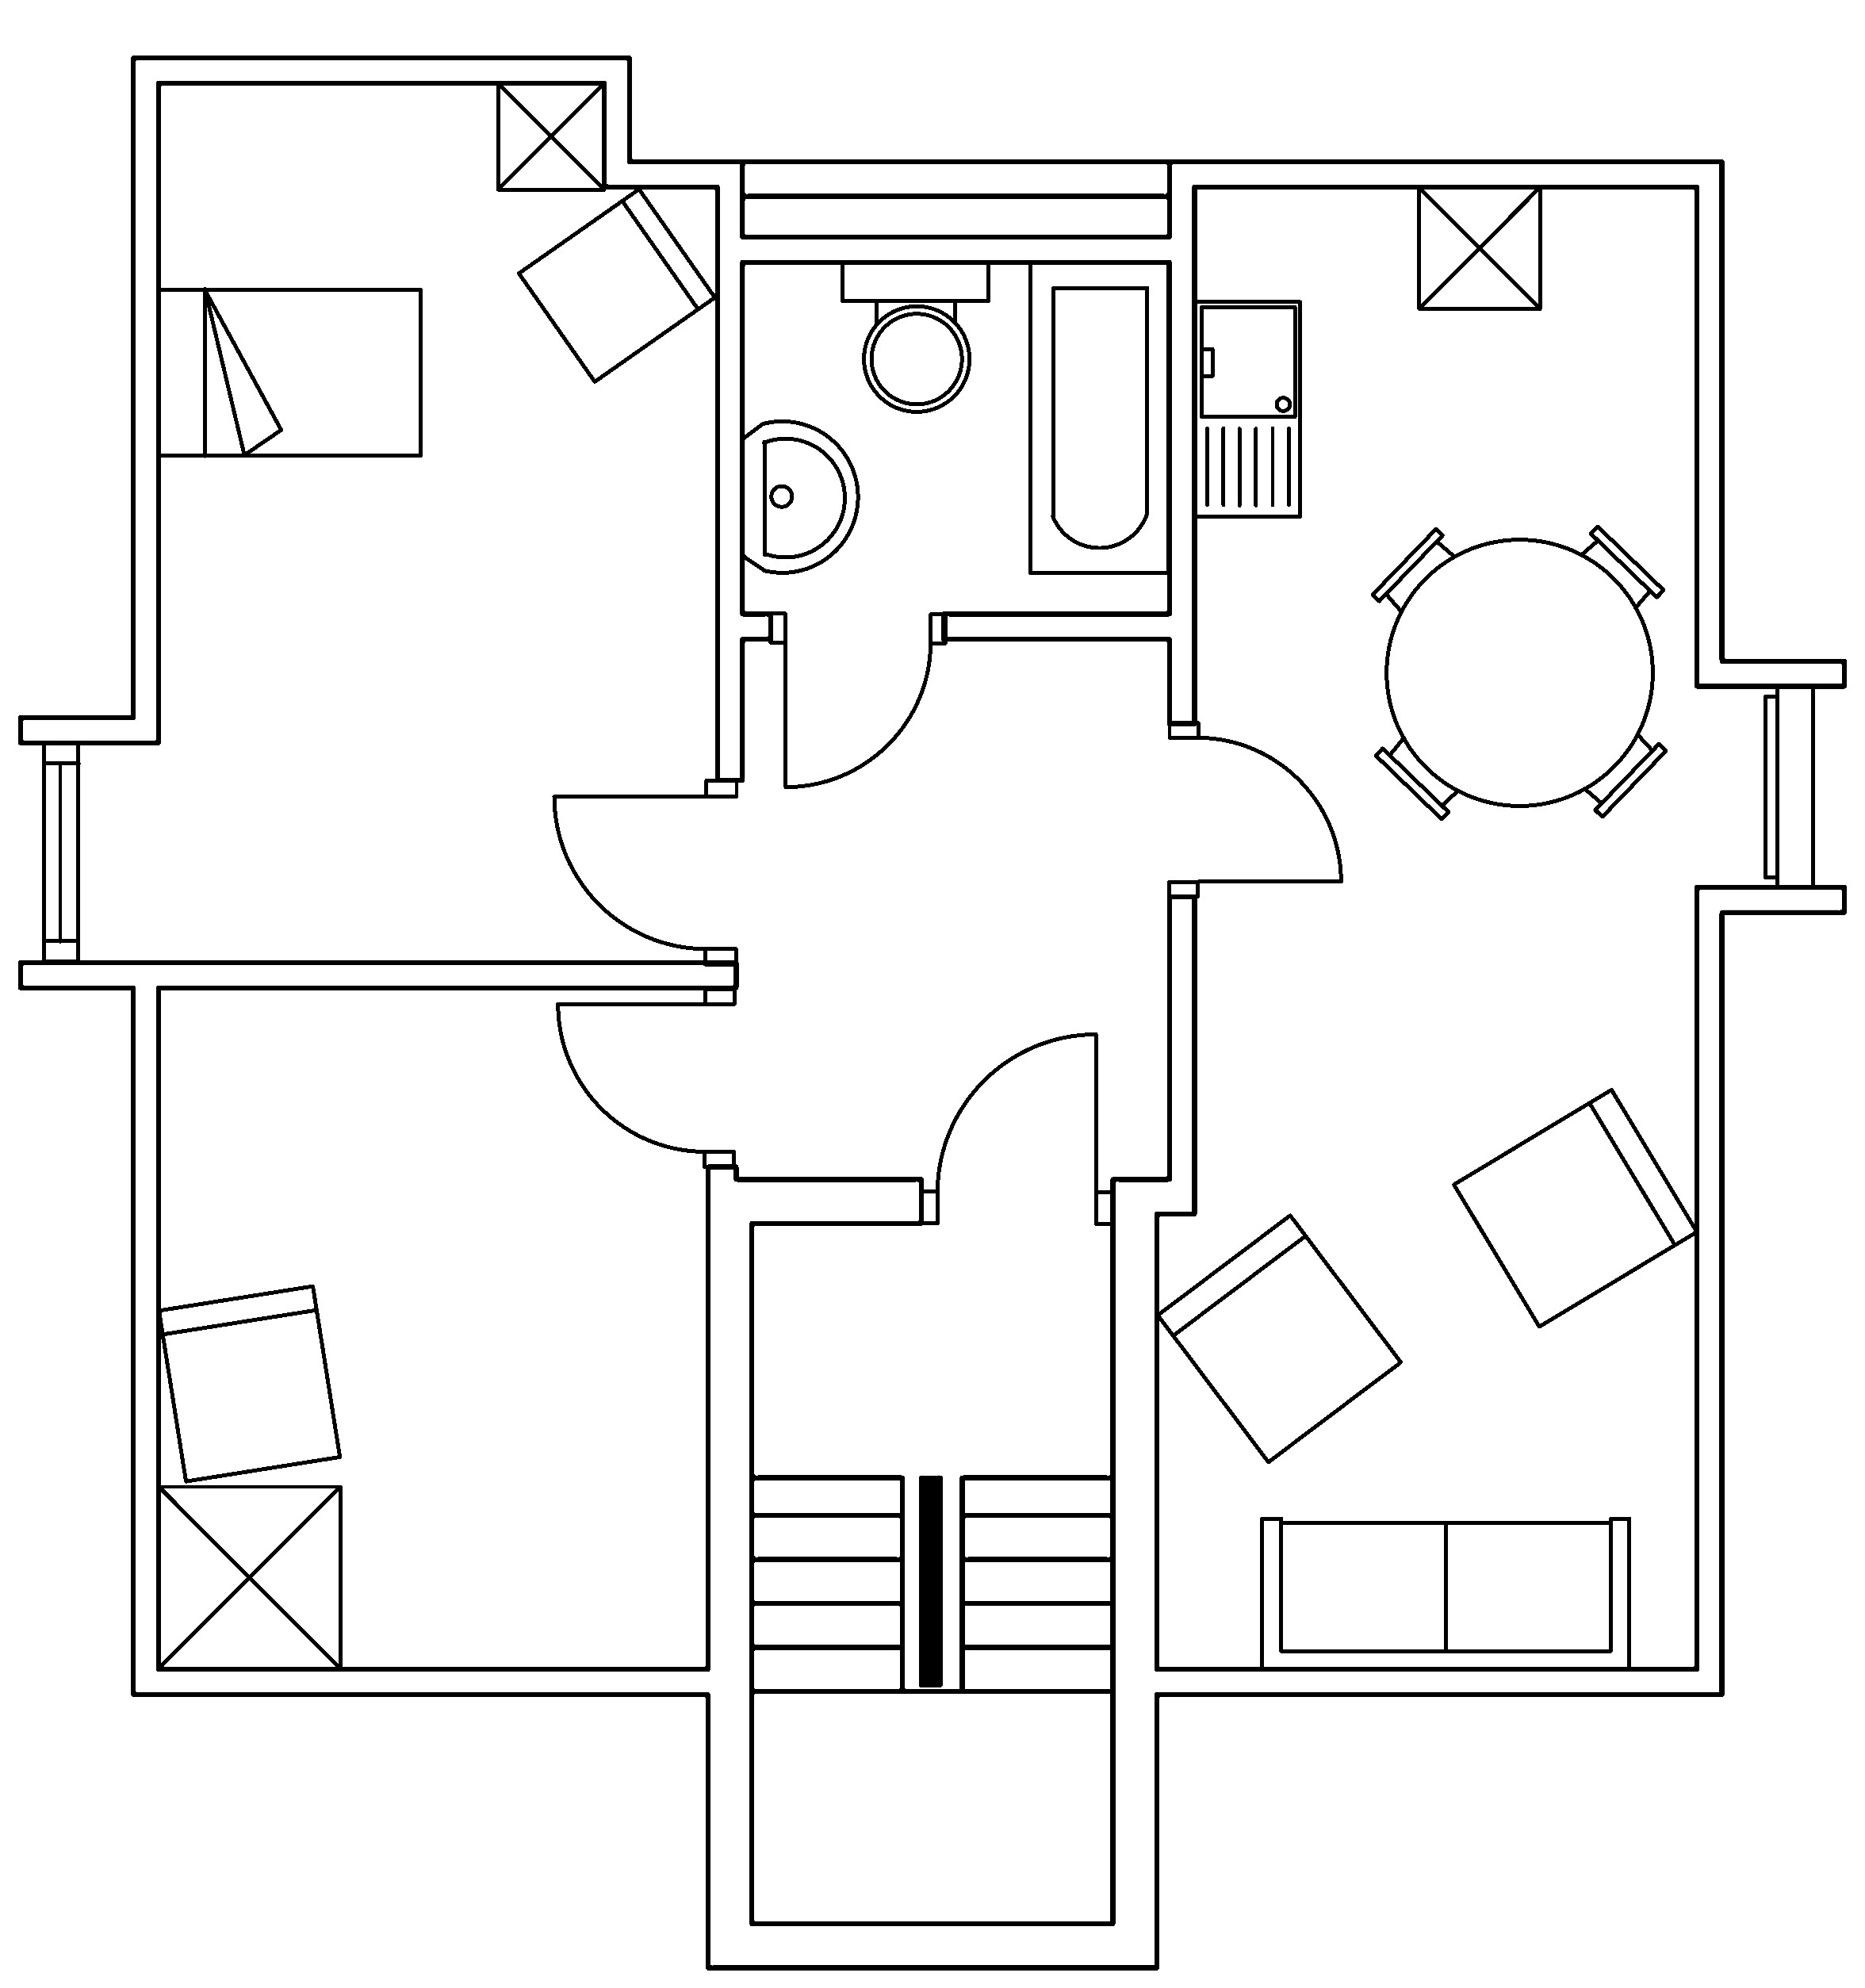bed: (154, 286, 422, 458)
coffee_table: (154, 1481, 342, 1671), (1416, 182, 1542, 310), (494, 79, 606, 191)
large_sink: (840, 258, 990, 412)
large_sofa: (1257, 1515, 1632, 1672)
round_table: (1369, 522, 1669, 822)
sink: (1192, 298, 1302, 519)
small_sink: (740, 419, 859, 573)
small_sofa: (1153, 1211, 1404, 1464), (1450, 1085, 1698, 1329), (515, 186, 717, 384), (156, 1282, 342, 1483)
tub: (1027, 258, 1171, 575)
